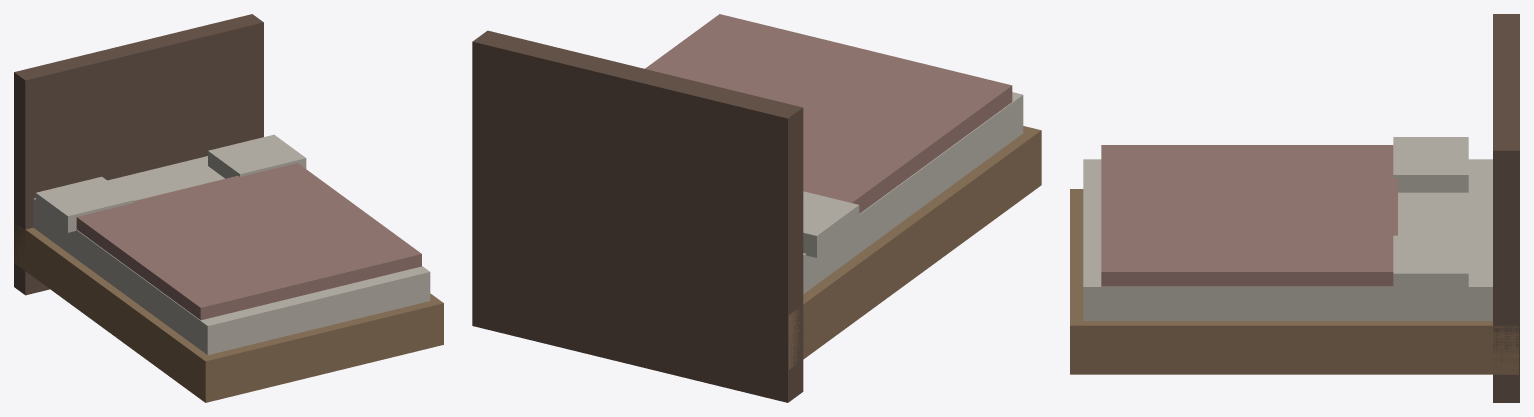
Rendered from antique_bed_detail_pbr_orm.glb.
The picture shows the model from 3 angles, left to right: view 1: azimuth 30°, elevation 25°; view 2: azimuth 150°, elevation 25°; view 3: azimuth 270°, elevation 25°; orthographic projection. The views are drawn at different scales.
Parts seen in each view (by area): view 1: geometry_0; view 2: geometry_0; view 3: geometry_0.
Part boxes in pixels (x1,y1,x2,y2): geometry_0: (14,14,443,402); geometry_0: (472,14,1041,402); geometry_0: (1070,14,1519,402).
Bounding box in the file's own units: 1.8 × 1.55 × 2.5.
